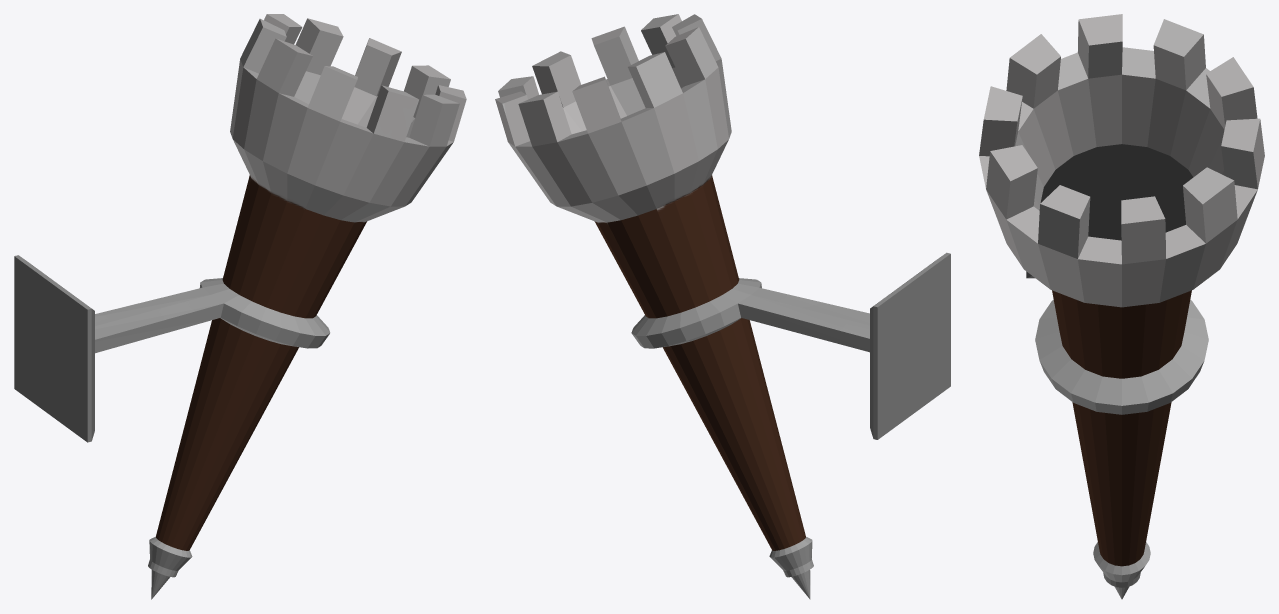
Rendered from Torch.fbx.
The picture shows the model from 3 angles, left to right: view 1: azimuth 30°, elevation 25°; view 2: azimuth 150°, elevation 25°; view 3: azimuth 270°, elevation 25°; orthographic projection. The views are drawn at different scales.
Visible parts, largest first — view 1: pCylinder1, pCube1; view 2: pCylinder1, pCube1; view 3: pCylinder1.
Part boxes in pixels (bbox=[...]): pCylinder1: bbox=[95, 14, 466, 599]; pCube1: bbox=[14, 255, 94, 442]; pCylinder1: bbox=[495, 14, 869, 599]; pCube1: bbox=[870, 252, 950, 439]; pCylinder1: bbox=[979, 14, 1264, 599].
Size of the model in its own units: 6.23 by 7.88 by 3.09.
